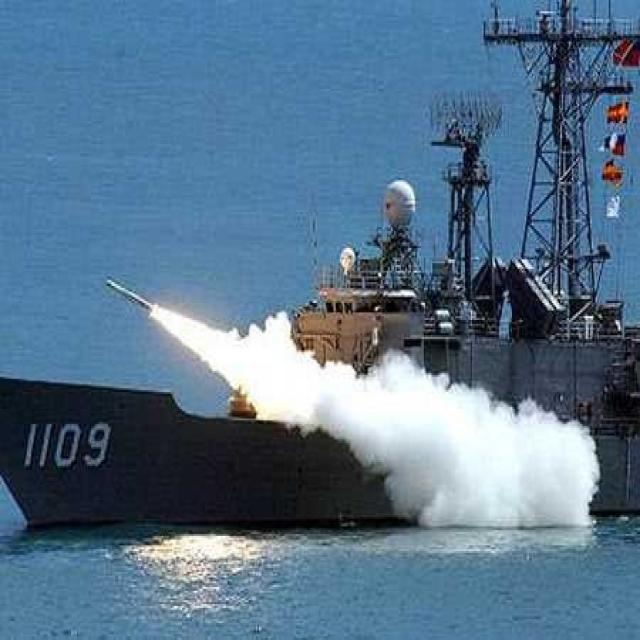missile: (102, 275, 156, 317)
